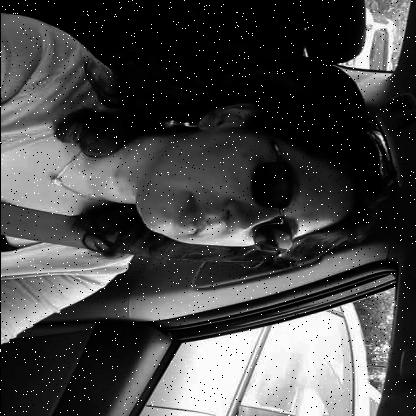seatbelt: (0, 74, 385, 272)
